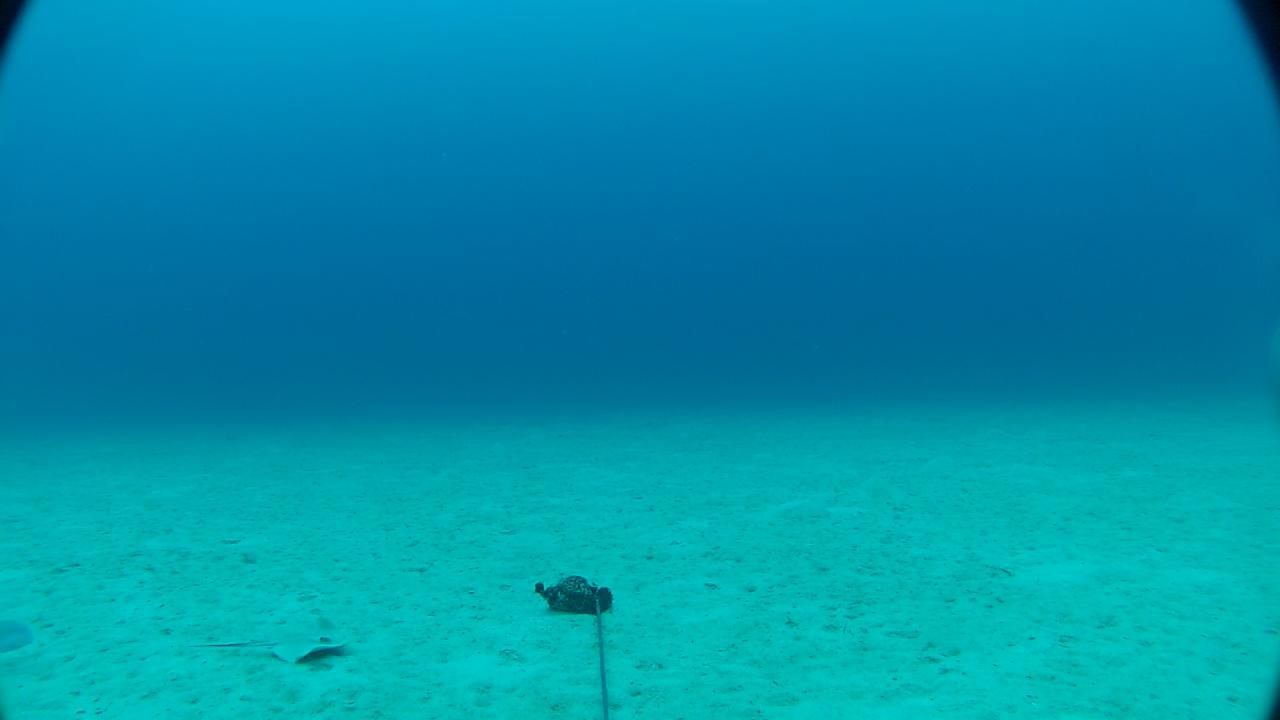dasyatis: (178, 630, 352, 666)
